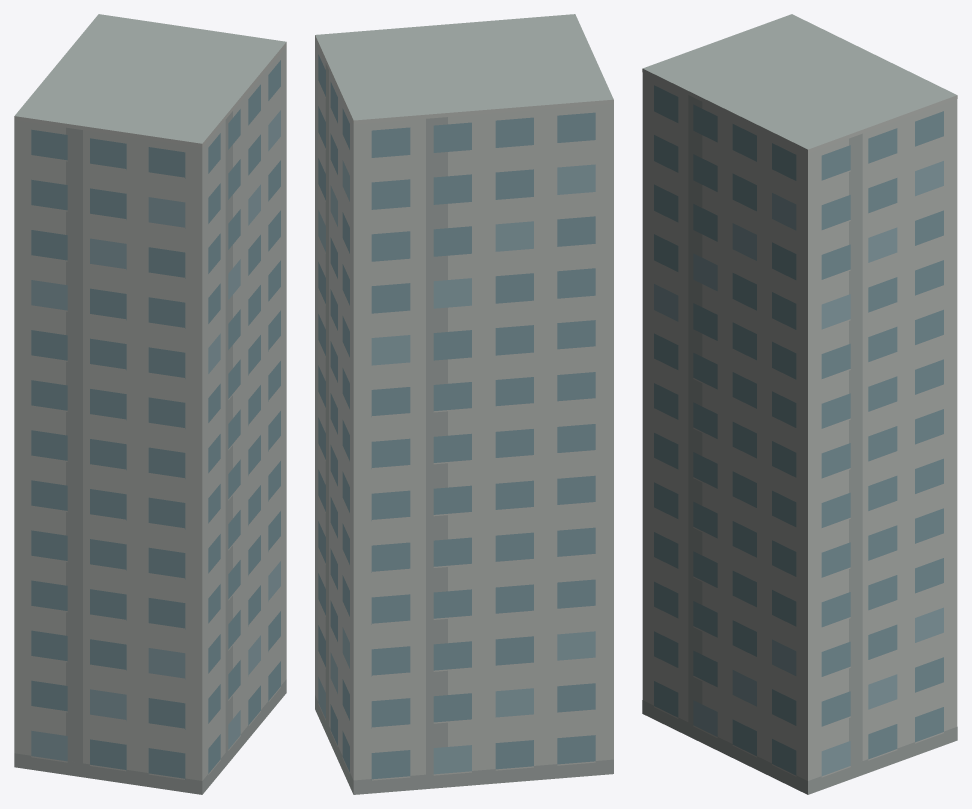
The model's file is residential-b0190030-44eb-407d-a682-acbbfe62279d.glb.
The picture shows the model from 3 angles, left to right: view 1: azimuth 30°, elevation 25°; view 2: azimuth 150°, elevation 25°; view 3: azimuth 270°, elevation 25°; orthographic projection. The views are drawn at different scales.
Parts seen in each view (by area): view 1: residential-b0190030-44eb-407d-a682-acbbfe62279d.tmp; view 2: residential-b0190030-44eb-407d-a682-acbbfe62279d.tmp; view 3: residential-b0190030-44eb-407d-a682-acbbfe62279d.tmp.
Part boxes in pixels (x1,y1,x2,y2): residential-b0190030-44eb-407d-a682-acbbfe62279d.tmp: (14, 14, 286, 794); residential-b0190030-44eb-407d-a682-acbbfe62279d.tmp: (315, 14, 613, 794); residential-b0190030-44eb-407d-a682-acbbfe62279d.tmp: (642, 14, 957, 794).
Bounding box in the file's own units: 18.03 × 40 × 17.7.
